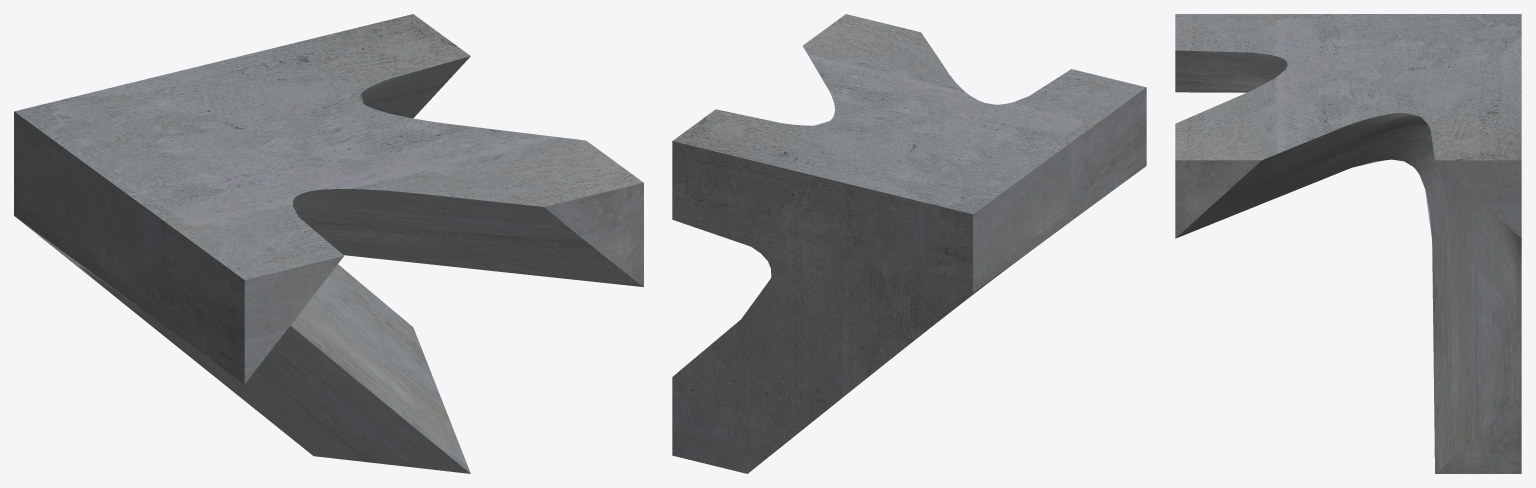
The model's file is module_N2.fbx.
The picture shows the model from 3 angles, left to right: view 1: azimuth 30°, elevation 25°; view 2: azimuth 150°, elevation 25°; view 3: azimuth 270°, elevation 25°; orthographic projection. The views are drawn at different scales.
Visible parts, largest first — view 1: modules; view 2: modules; view 3: modules.
Part boxes in pixels (x1=…): modules: x1=14, y1=14, x2=643, y2=473; modules: x1=672, y1=14, x2=1146, y2=473; modules: x1=1175, y1=14, x2=1521, y2=473.
Size of the model in its own units: 1000 by 1000 by 1000.
1 material, 1 textured.
